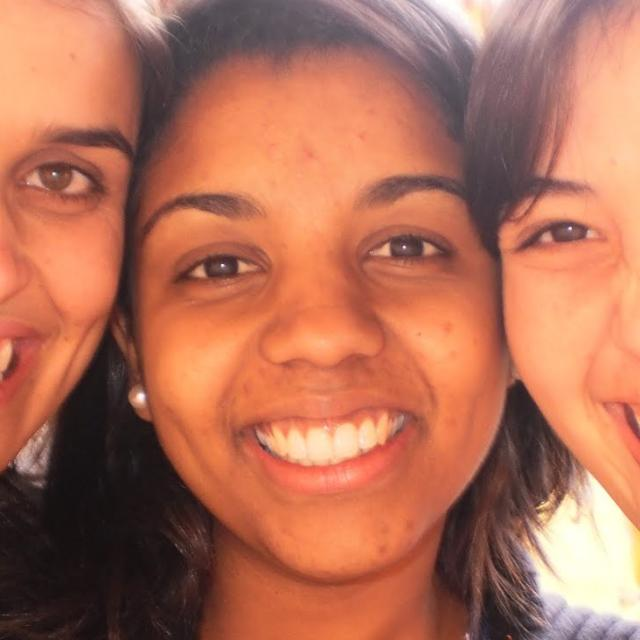Normal: (135, 51, 504, 581)
